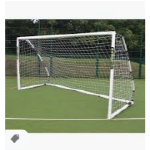goals: (15, 29, 135, 120)
